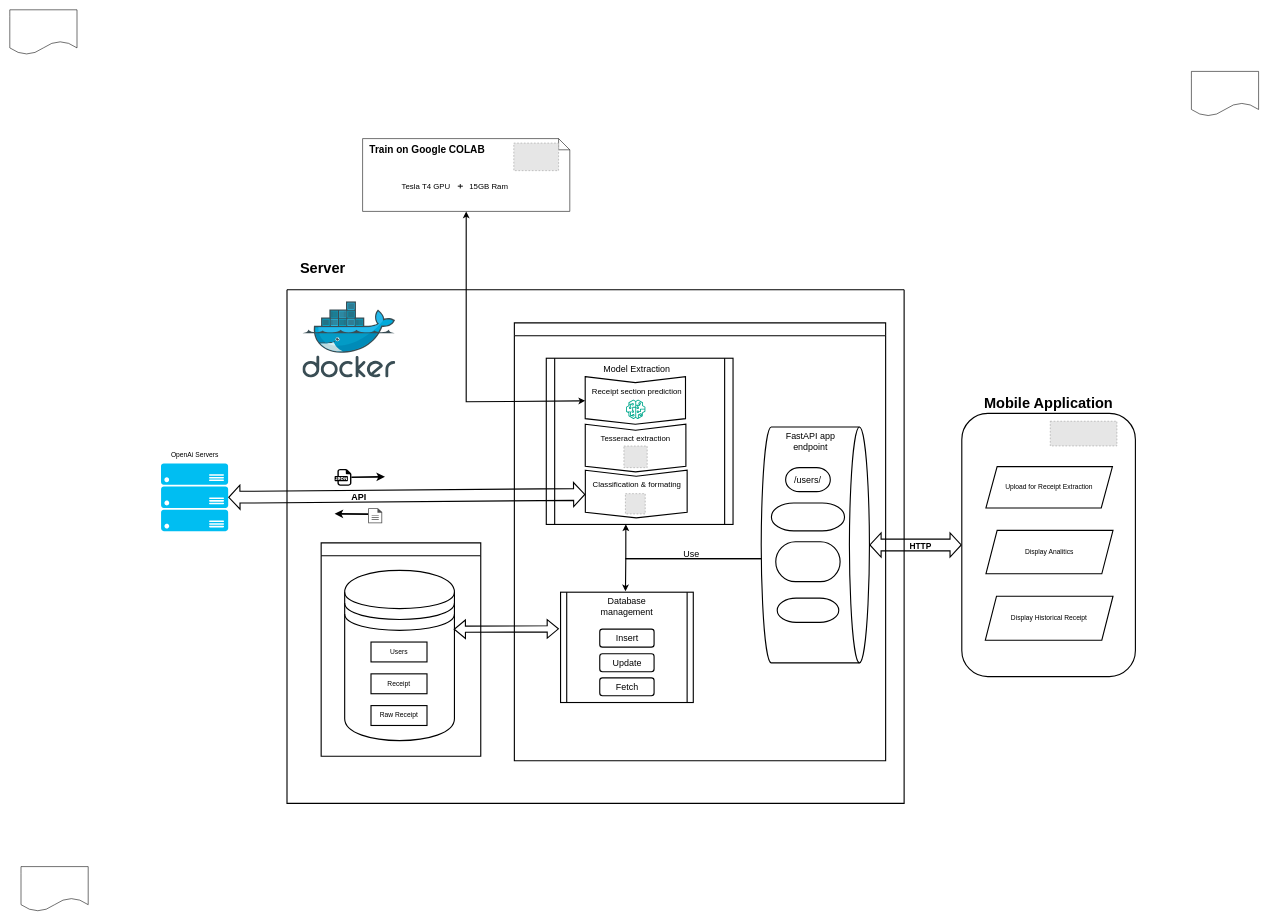
This 1268x921 diagram has some shape labels left out. Grey dashed boxes stand in for pictures. Here are the shapes that lost their labels. From the top down, the box of each, then its label:
(368, 508, 382, 523): prompt
(771, 502, 845, 531): /uploadReceipt/
(514, 322, 886, 761): Server images
(775, 541, 840, 582): /uplaod Receip Data/
(776, 597, 839, 623): /getReceipt/
(320, 542, 481, 757): Postgres image
